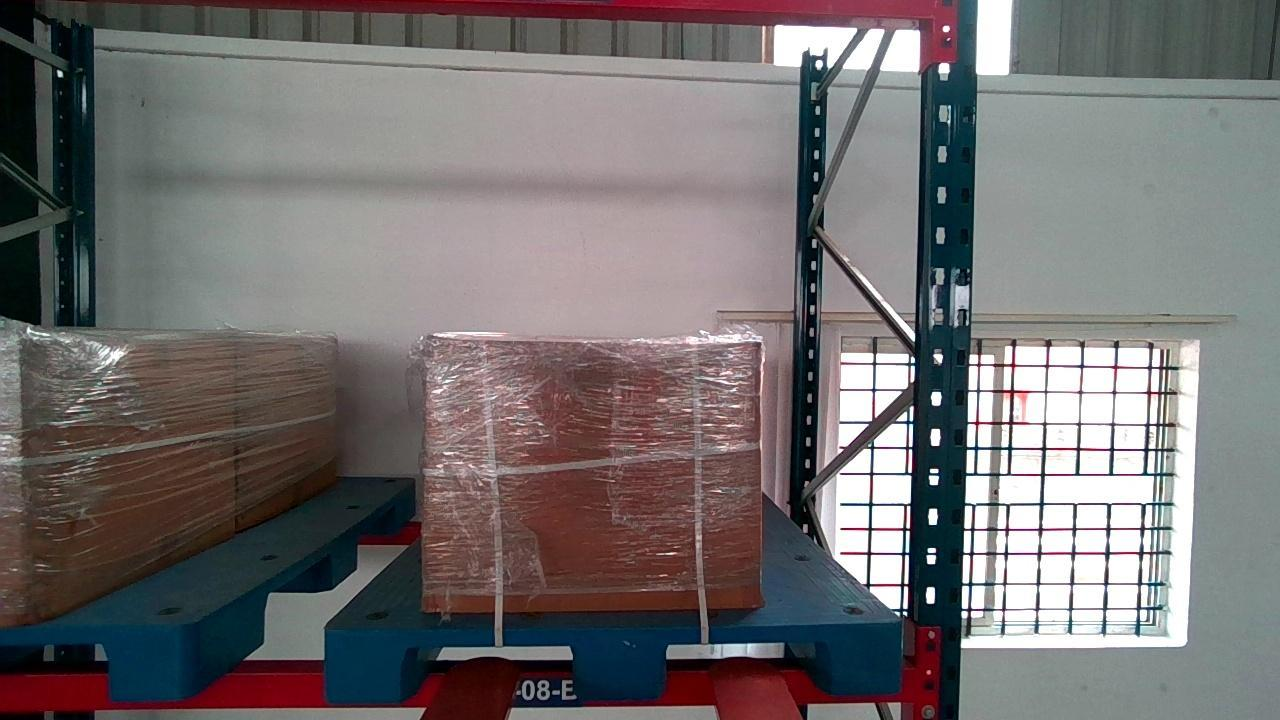small_pallet: (326, 617, 903, 701)
